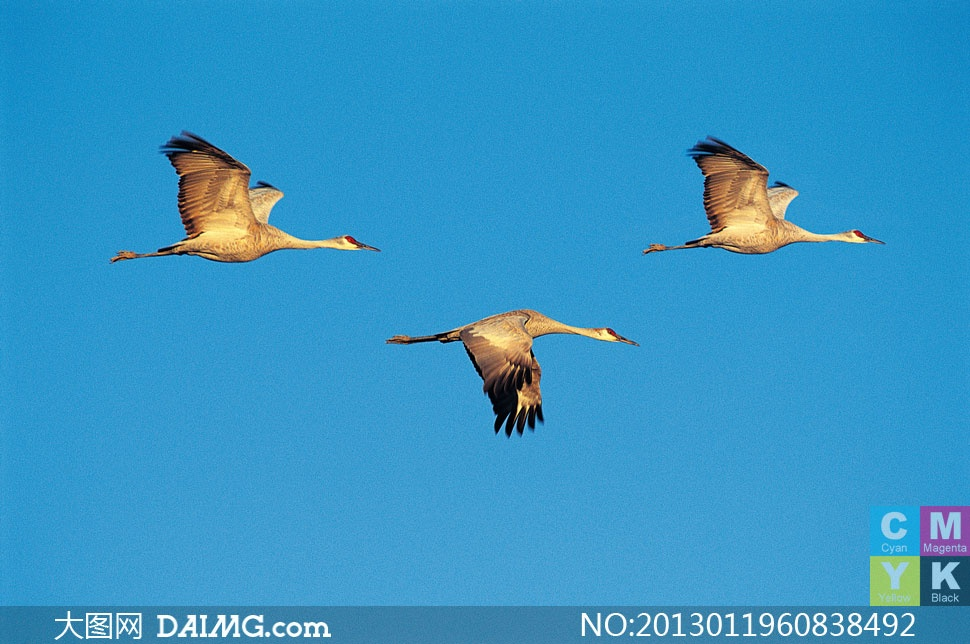bird: (101, 127, 389, 268), (383, 309, 645, 438), (639, 135, 885, 256)
